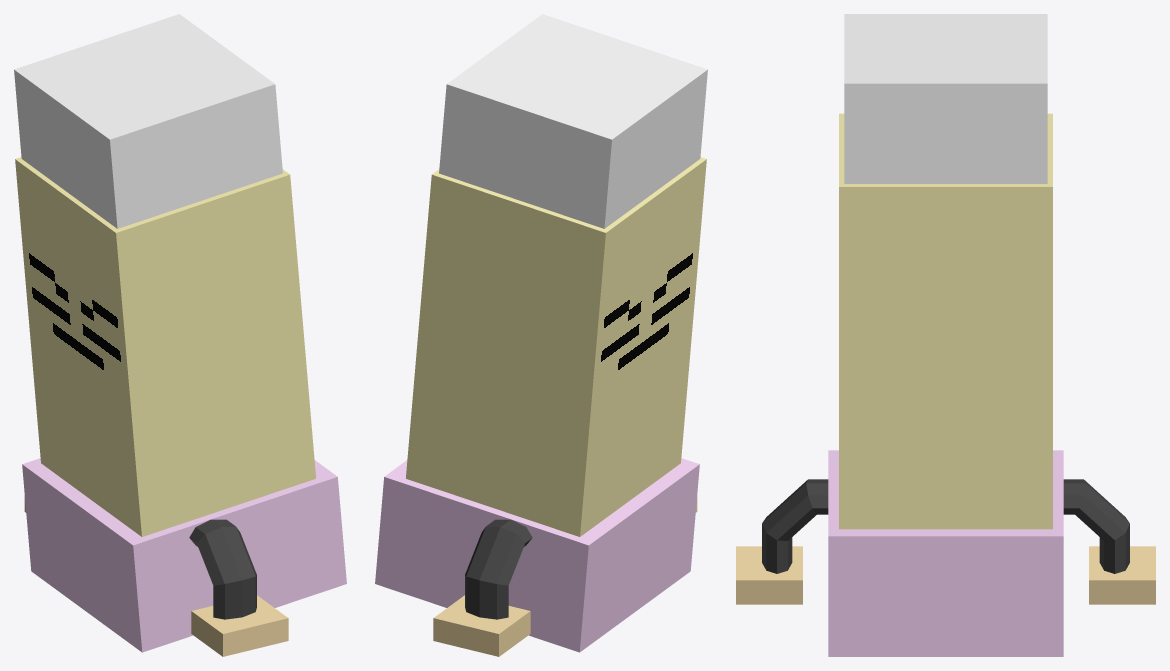
File: enorcaker.gltf
3 views of the same model, side by side, from view 1: azimuth 30°, elevation 25°; view 2: azimuth 150°, elevation 25°; view 3: azimuth 270°, elevation 25° (orthographic). The views are drawn at different scales.
Visible parts, largest first — view 1: mesh (×4), torus; view 2: mesh (×4), torus; view 3: mesh (×5), torus (×2).
Part boxes in pixels (box(x1,y1,x2,y2)): mesh (×4): box(14, 14, 346, 656); torus: box(189, 519, 256, 619); mesh (×4): box(375, 14, 707, 656); torus: box(465, 519, 532, 619); mesh (×5): box(736, 14, 1155, 656); torus (×2): box(762, 479, 1129, 573).
Size of the model in its own units: 0.3281 by 0.7222 by 0.4906.
6 materials, 6 textured.
